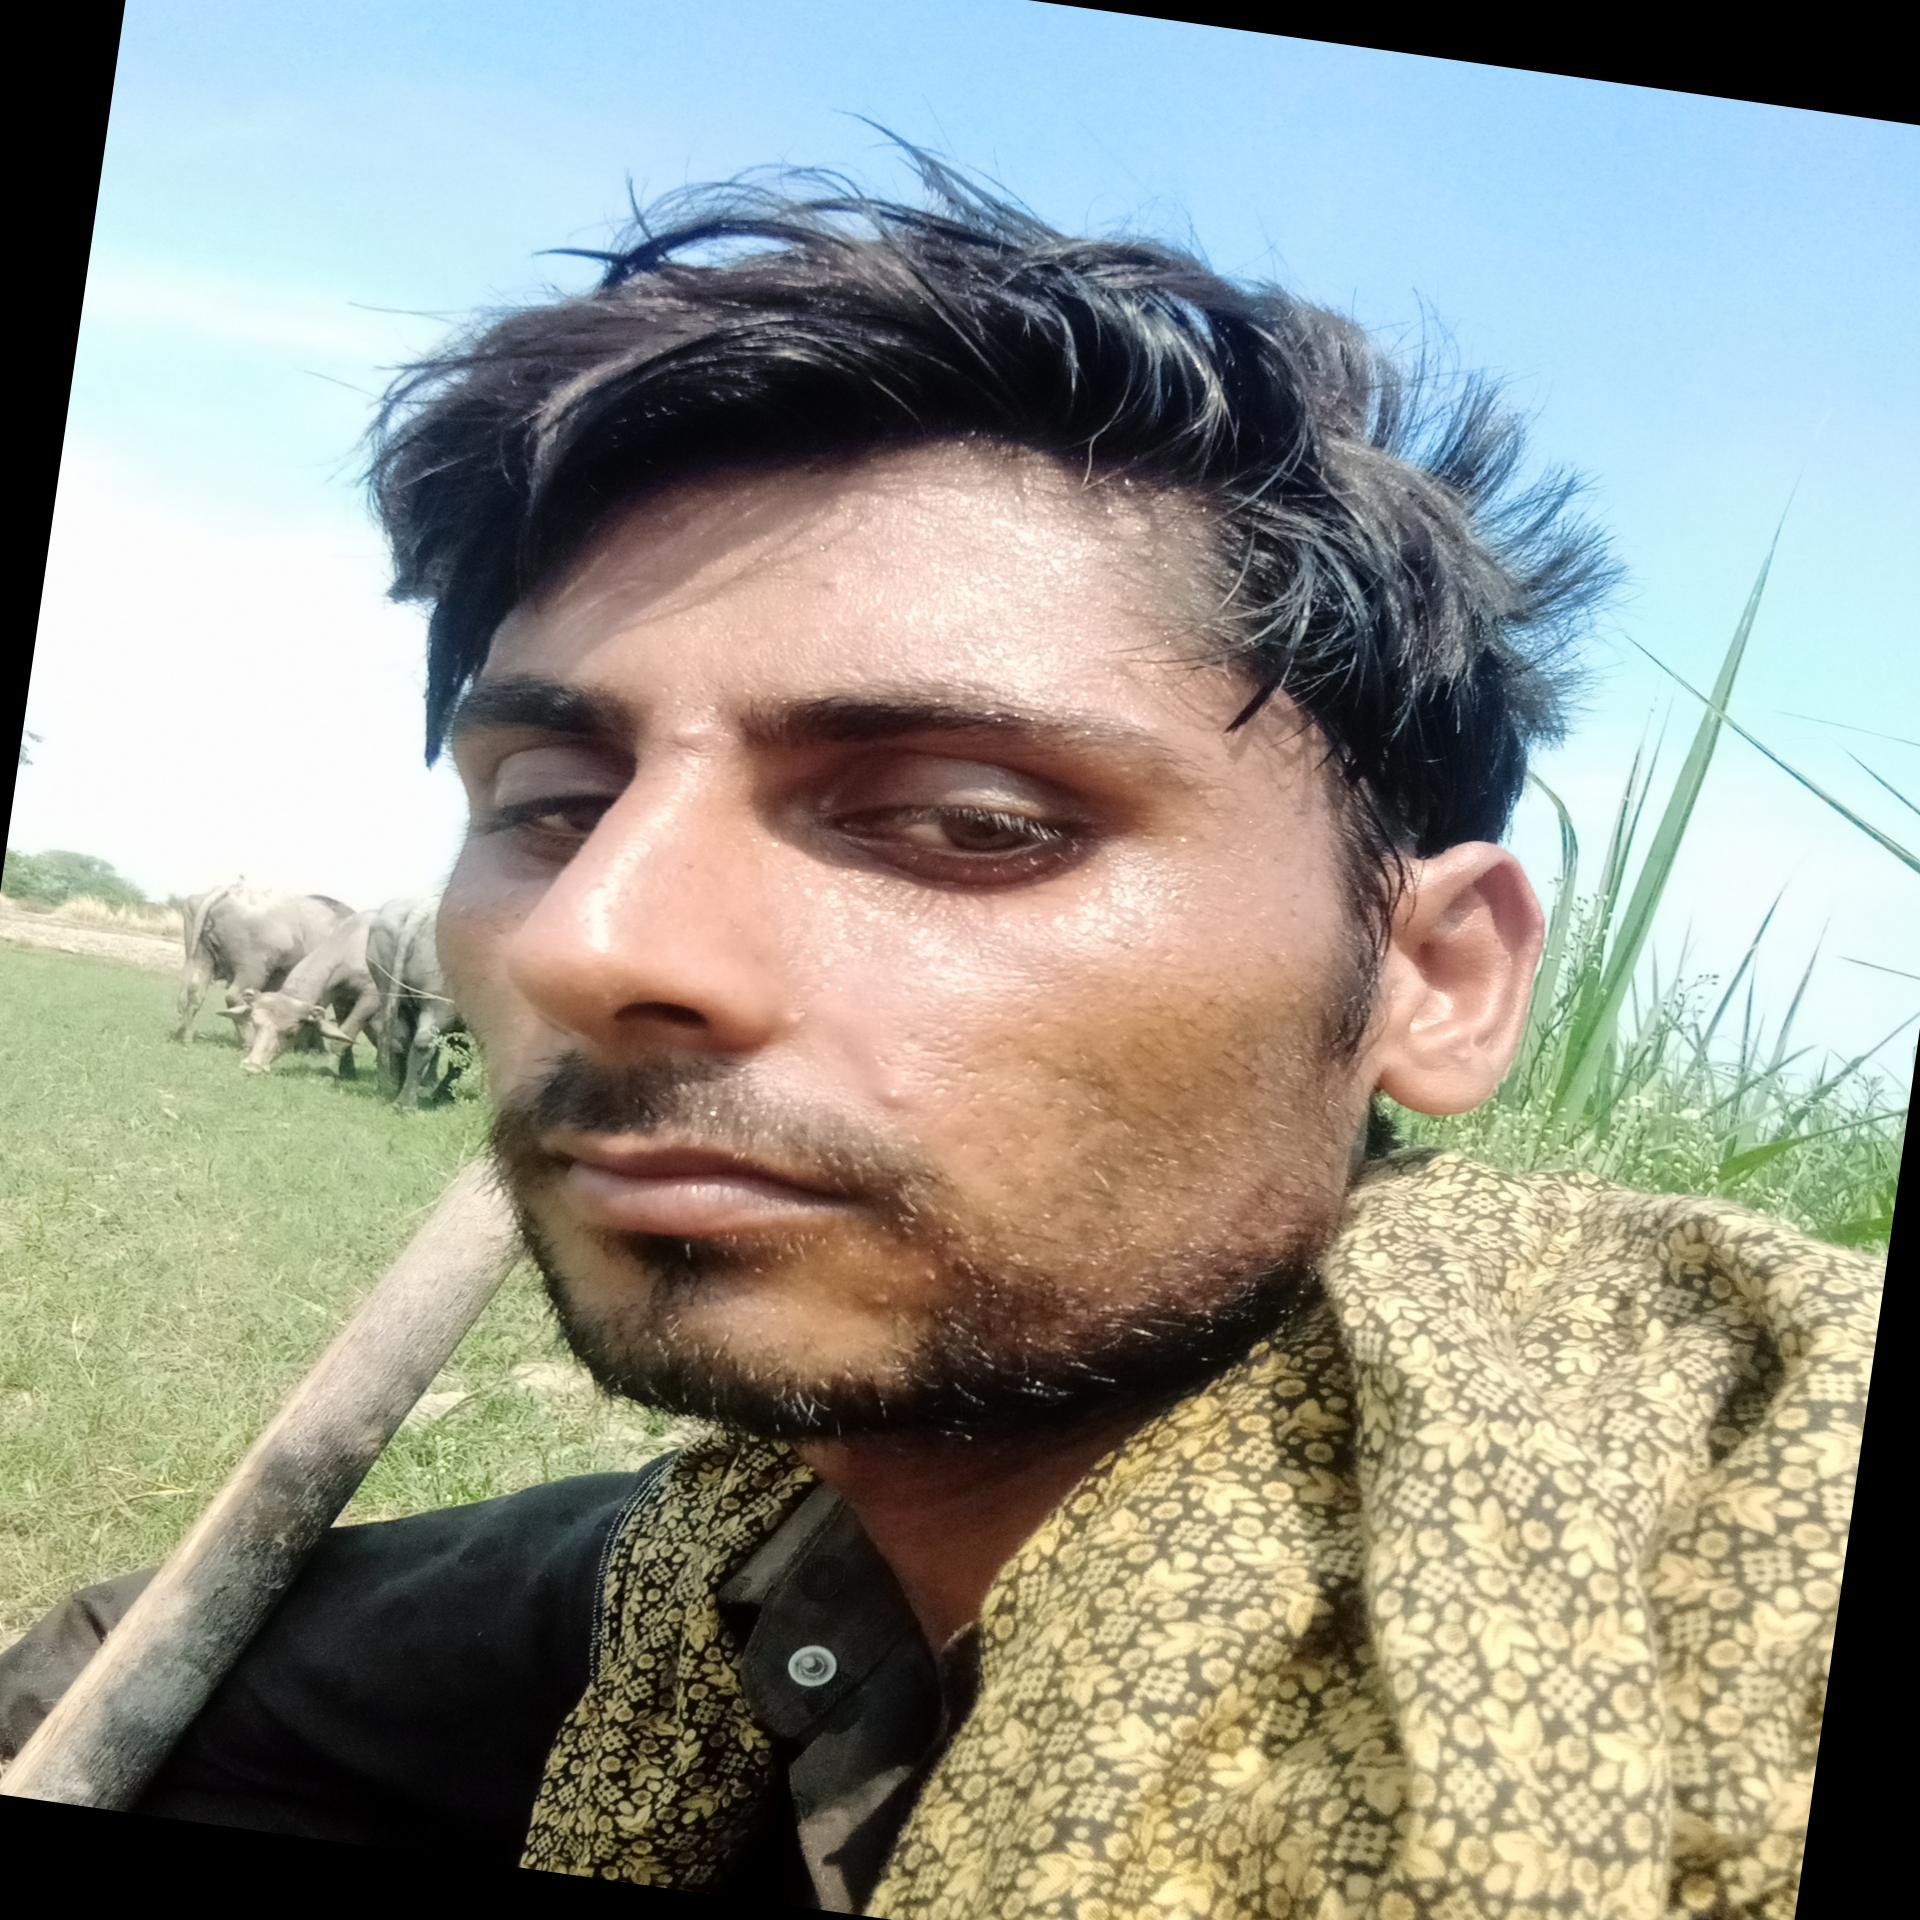Acne: (775, 1002, 837, 1048), (853, 1289, 909, 1320), (869, 1078, 921, 1111), (905, 1262, 953, 1296), (666, 723, 714, 756), (812, 568, 856, 598)
